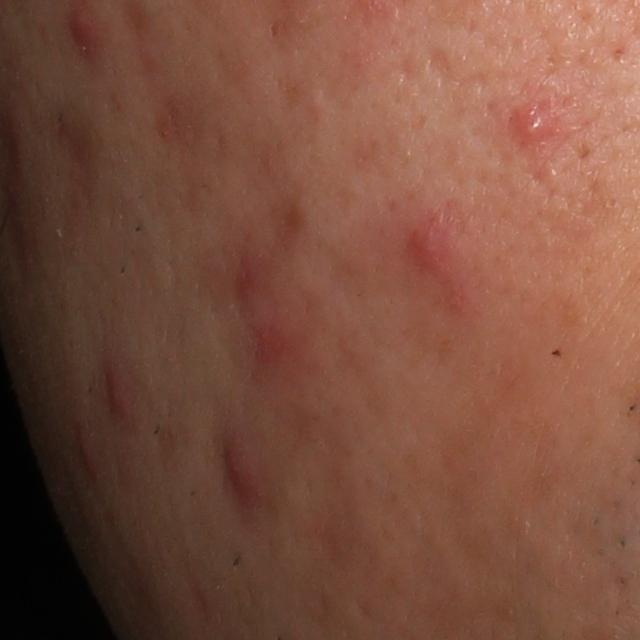atrophic_scar: (42, 97, 108, 214), (428, 48, 491, 91)
papule: (404, 208, 469, 277), (224, 429, 262, 499), (507, 98, 561, 147), (74, 428, 101, 473)
